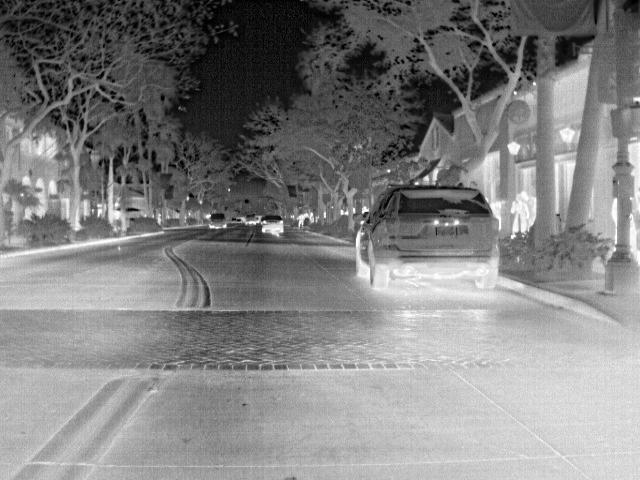car: (350, 182, 500, 290), (258, 215, 286, 237), (207, 212, 227, 230)
person: (510, 198, 530, 240), (517, 190, 536, 230), (293, 212, 305, 230)
